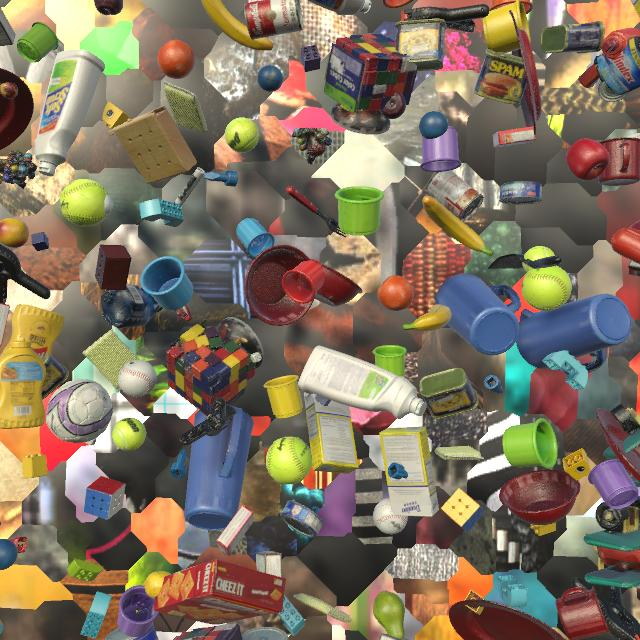ycb_002_master_chef_can: (104, 623, 159, 640), (241, 627, 288, 640)
ycb_003_cracker_box: (153, 559, 286, 625)
ycb_004_sugar_box: (379, 427, 439, 517), (304, 392, 359, 474), (631, 0, 640, 18)
ycb_005_tomato_soup_can: (426, 170, 484, 221), (244, 0, 303, 40), (593, 53, 630, 102)
ycb_006_mustard_bottle: (0, 335, 46, 429), (1, 304, 64, 359)
ycb_007_tuna_fish_can: (280, 500, 324, 538), (499, 181, 542, 205)
ycb_008_pudding_box: (256, 551, 283, 613), (0, 7, 16, 46), (628, 260, 640, 277), (379, 634, 409, 640)
ycb_009_gelatin_box: (216, 504, 253, 556), (492, 126, 536, 148), (0, 303, 10, 347)
ycb_010_potted_meat_can: (419, 368, 479, 419), (474, 49, 527, 105), (395, 18, 447, 71), (540, 21, 605, 54), (41, 352, 69, 400)
ycb_011_banana: (422, 196, 494, 256), (201, 0, 273, 51), (402, 304, 452, 331)
ycb_013_apple: (566, 139, 610, 181)
ycb_014_lemon: (143, 571, 171, 599)
ycb_015_peach: (0, 218, 29, 248)
ycb_016_pear: (373, 591, 405, 639)
ycb_017_orange: (157, 40, 195, 79), (377, 275, 414, 311)
ycb_018_plum: (380, 92, 406, 119), (94, 0, 123, 15)
